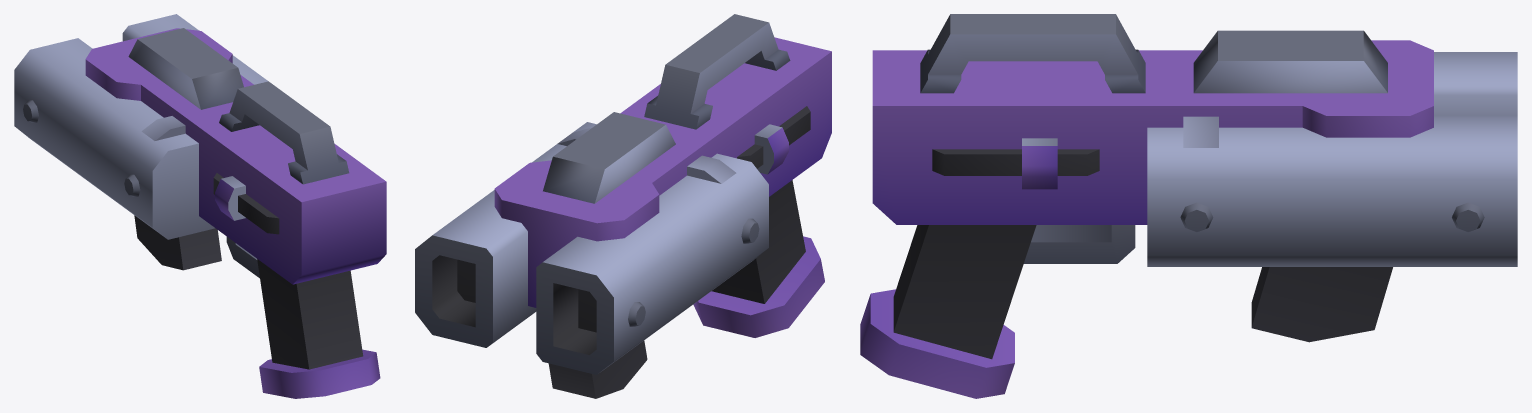
The model's file is blaster-l.glb.
3 renders of one model, left to right at view 1: azimuth 30°, elevation 25°; view 2: azimuth 150°, elevation 25°; view 3: azimuth 270°, elevation 25°, orthographic. The views are drawn at different scales.
Visible parts, largest first — view 1: blaster-l; view 2: blaster-l; view 3: blaster-l.
Boxes of the visible parts, bbox=[...] form: blaster-l: bbox=[14, 14, 386, 398]; blaster-l: bbox=[415, 14, 831, 398]; blaster-l: bbox=[860, 14, 1517, 398].
Bounding box in the file's own units: 0.2438 × 0.3279 × 0.5504.
